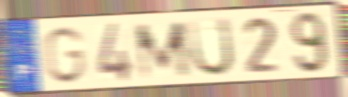2: (242, 16, 281, 76)
4: (96, 21, 135, 85)
9: (287, 10, 329, 76)
G: (42, 25, 87, 86)
M: (133, 19, 194, 82)
U: (187, 16, 237, 79)
